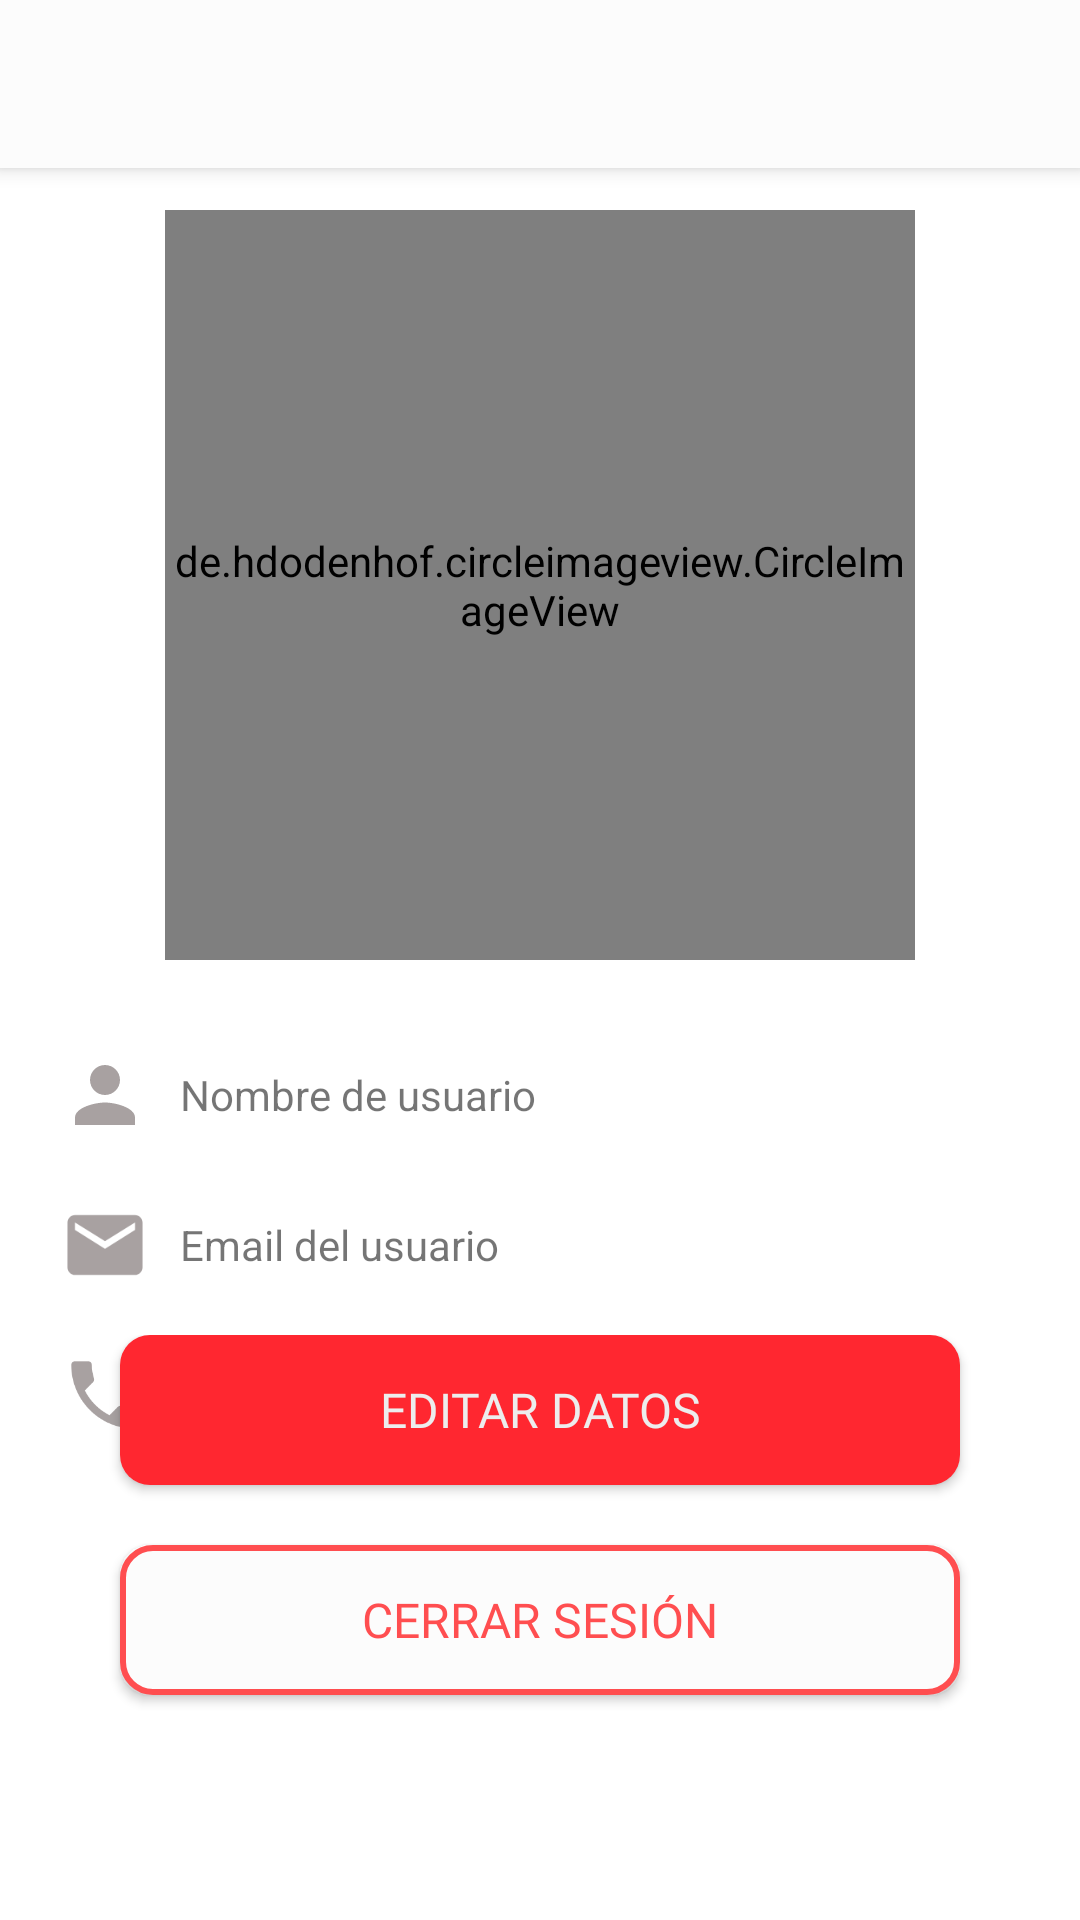

Where icons sit on this 1080x1920 app screen, as (x1=x1, y1=y1, x2=x2, y2=y2):
person: (x1=75, y1=1065, x2=135, y2=1125)
